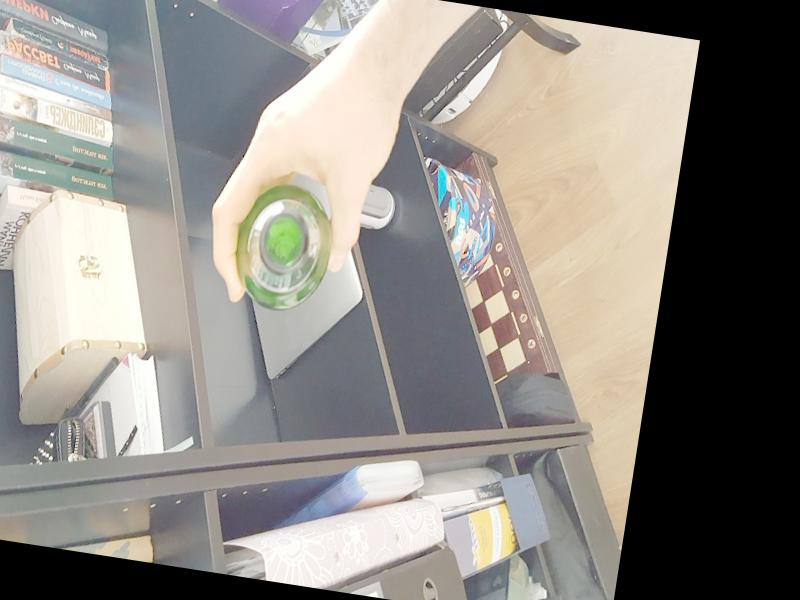Beer: (229, 181, 340, 309)
